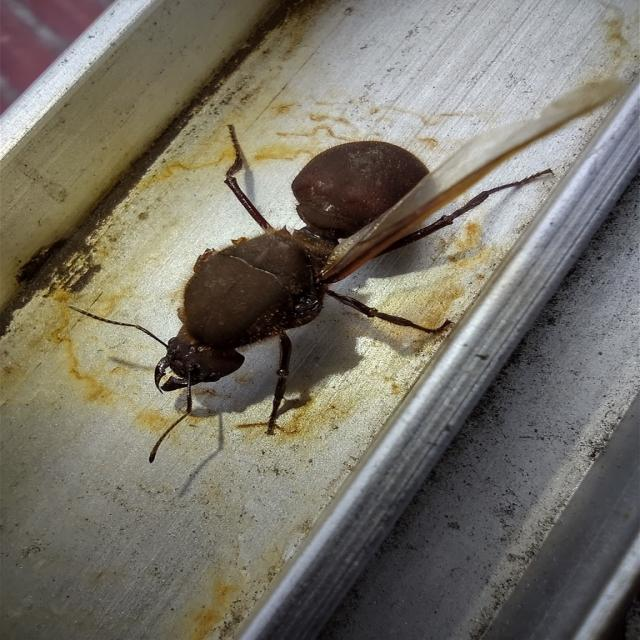Alive-Female-Alate: (67, 79, 627, 464)
